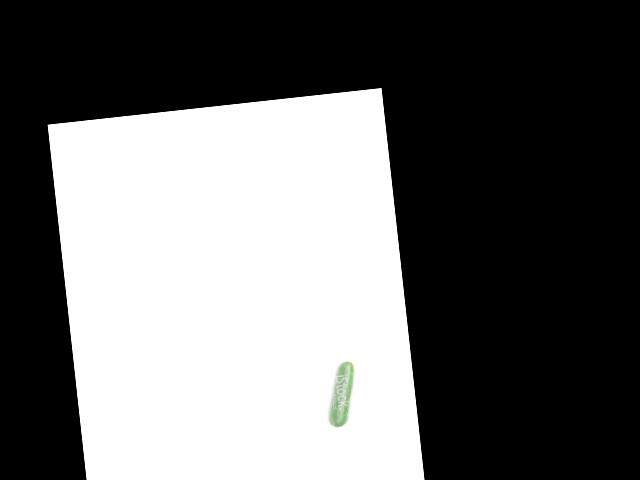cucumber: (323, 360, 360, 428)
